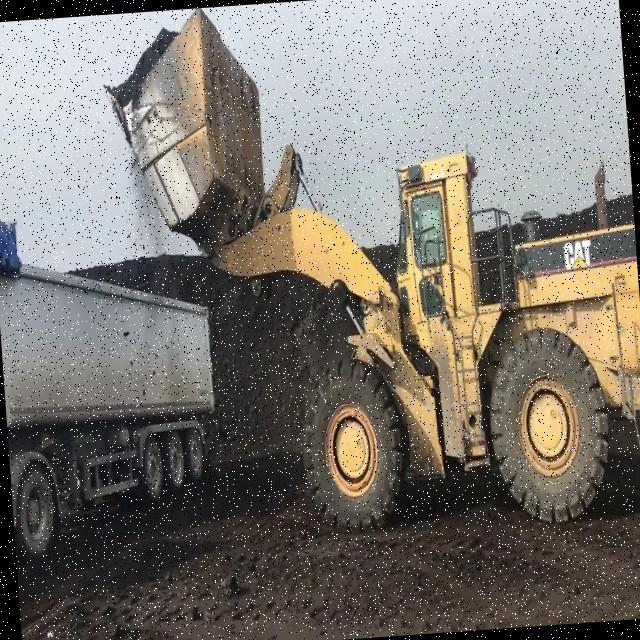Dump Truck: (0, 251, 230, 563)
Loader: (94, 0, 640, 553)
